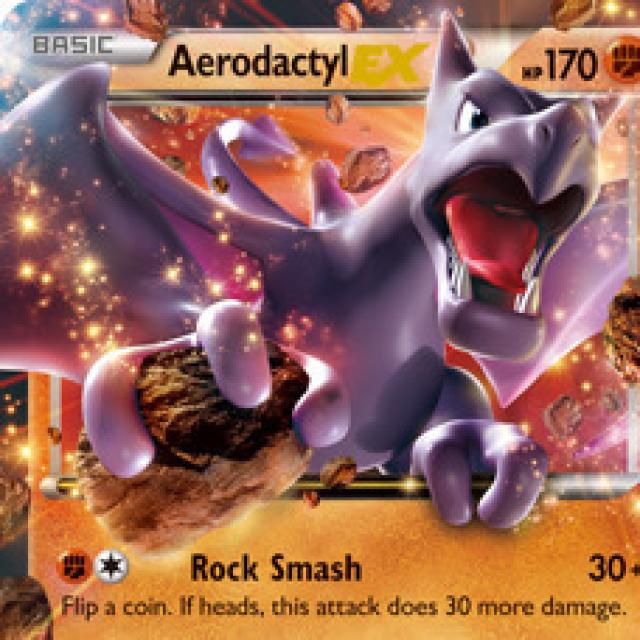Aerodactyl: (196, 80, 607, 488)
